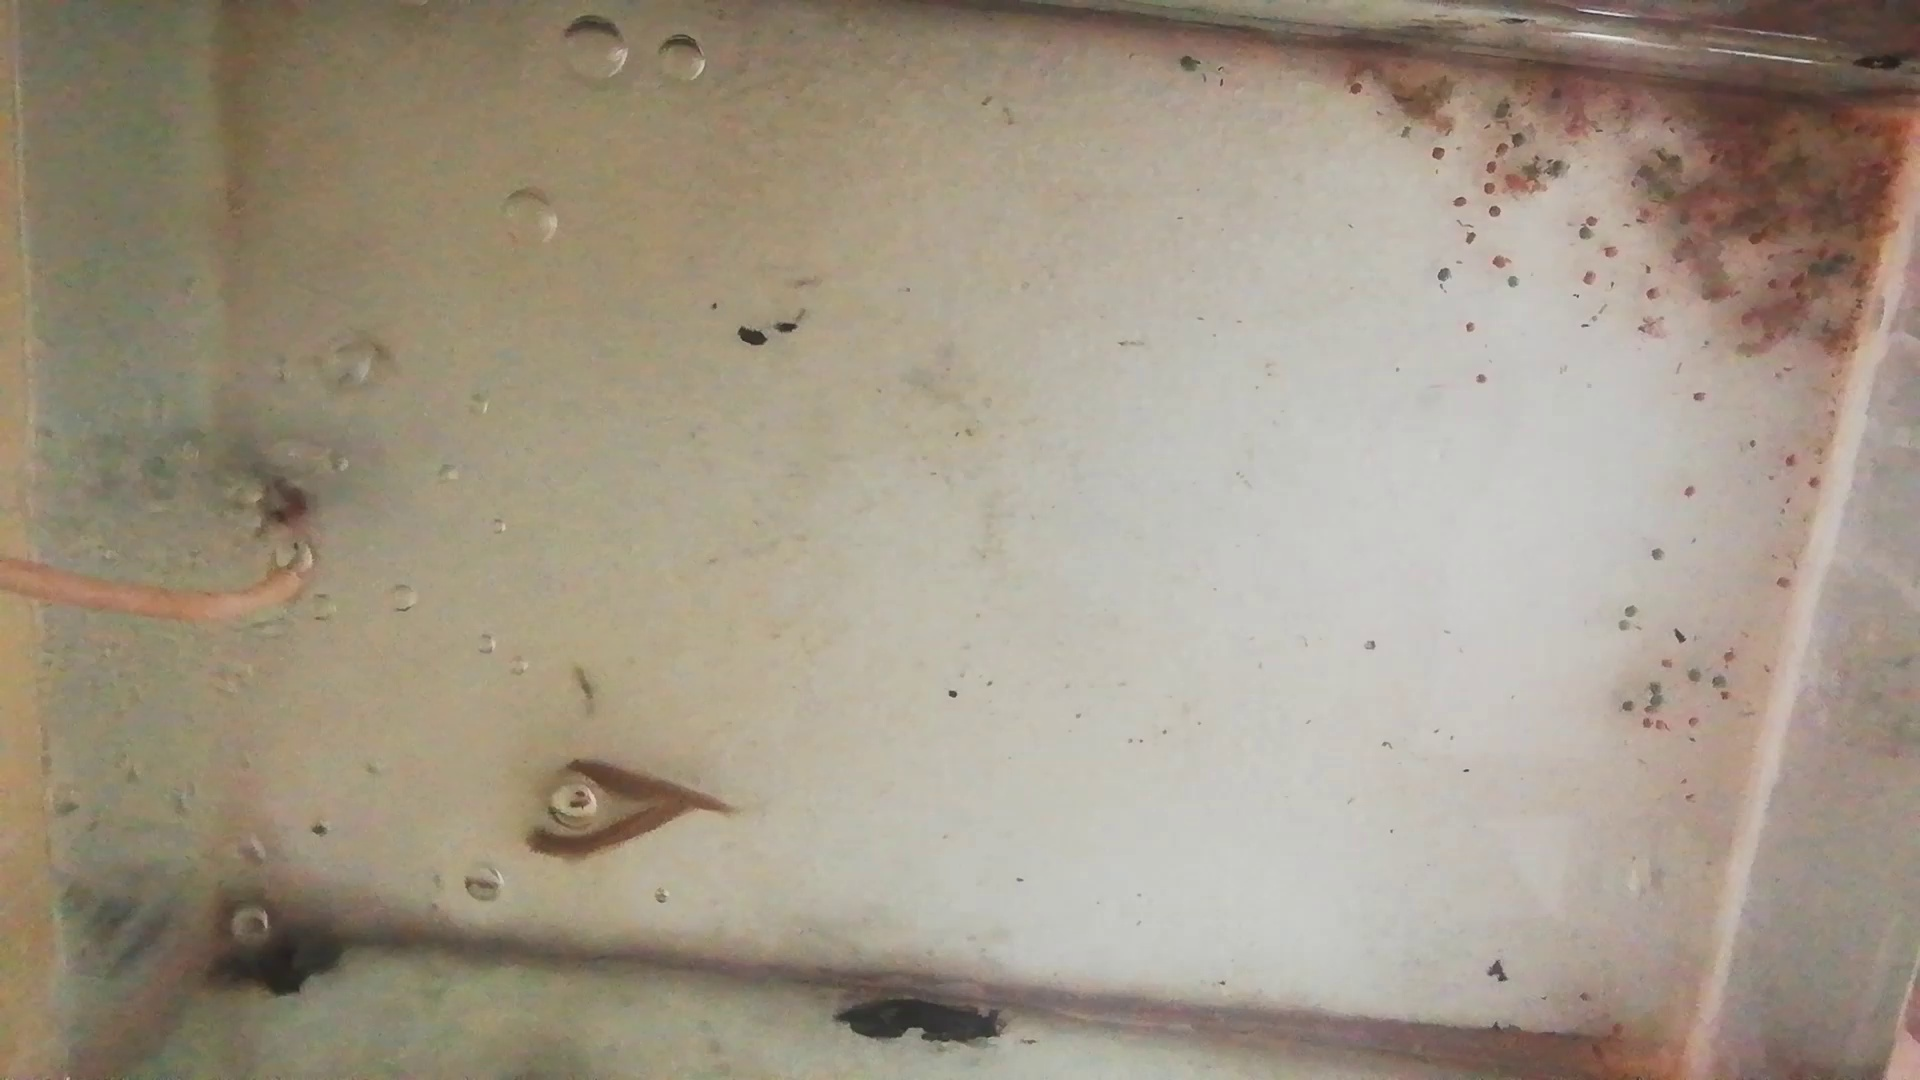fish: (521, 802, 702, 861), (556, 760, 741, 814)
